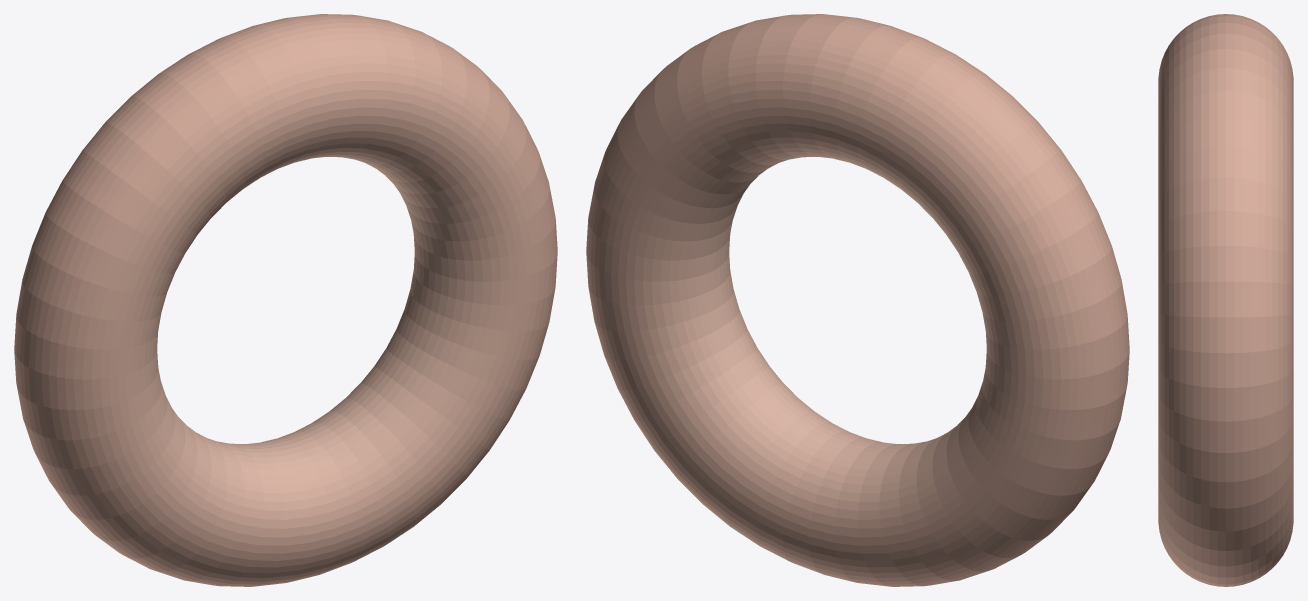
3 views of the same model, side by side, from view 1: azimuth 30°, elevation 25°; view 2: azimuth 150°, elevation 25°; view 3: azimuth 270°, elevation 25° (orthographic). The views are drawn at different scales.
Parts seen in each view (by area): view 1: world; view 2: world; view 3: world.
Part boxes in pixels (x1=…): world: x1=14, y1=14, x2=557, y2=586; world: x1=586, y1=14, x2=1129, y2=586; world: x1=1158, y1=14, x2=1293, y2=586.
Size of the model in its own units: 28.8 by 28.74 by 6.79.
